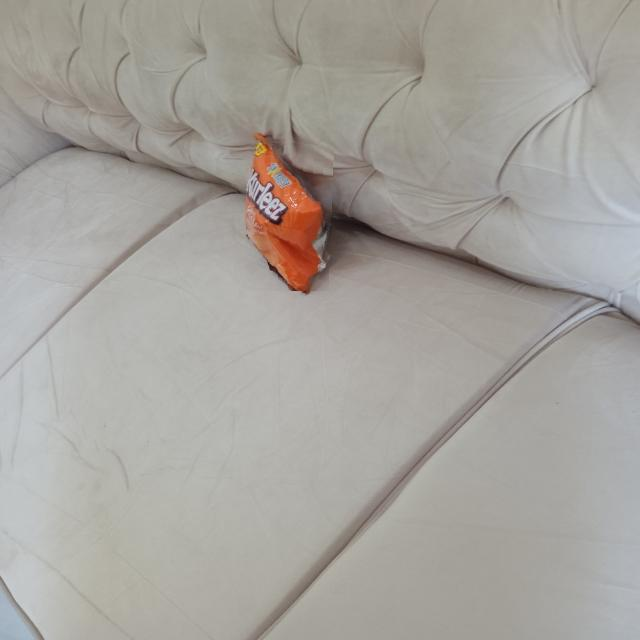Plastic: (246, 138, 334, 291)
